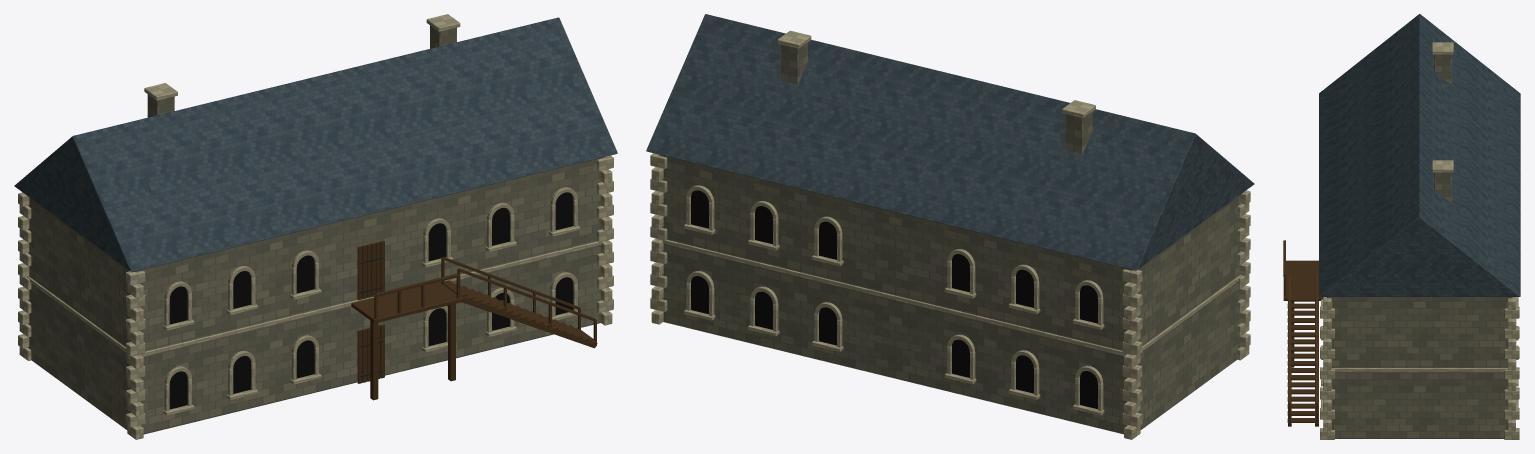
The model's file is hall-DfnBqStf.glb.
3 views of the same model, side by side, from view 1: azimuth 30°, elevation 25°; view 2: azimuth 150°, elevation 25°; view 3: azimuth 270°, elevation 25° (orthographic). The views are drawn at different scales.
Parts seen in each view (by area): view 1: hall__SW_slate, hall__SW_stone, hall__SW_limestone, hall__SW_wood, hall__SW_dark; view 2: hall__SW_stone, hall__SW_slate, hall__SW_limestone, hall__SW_dark; view 3: hall__SW_slate, hall__SW_stone, hall__SW_limestone, hall__SW_wood.
Part boxes in pixels (x1=…): hall__SW_slate: x1=14, y1=17, x2=617, y2=271; hall__SW_stone: x1=28, y1=25, x2=604, y2=434; hall__SW_limestone: x1=18, y1=14, x2=613, y2=439; hall__SW_wood: x1=351, y1=240, x2=597, y2=400; hall__SW_dark: x1=169, y1=192, x2=573, y2=409; hall__SW_stone: x1=659, y1=42, x2=1240, y2=434; hall__SW_slate: x1=646, y1=14, x2=1254, y2=270; hall__SW_limestone: x1=650, y1=30, x2=1250, y2=439; hall__SW_dark: x1=691, y1=190, x2=1097, y2=409; hall__SW_slate: x1=1319, y1=14, x2=1520, y2=296; hall__SW_stone: x1=1326, y1=54, x2=1512, y2=438; hall__SW_limestone: x1=1320, y1=42, x2=1519, y2=439; hall__SW_wood: x1=1283, y1=240, x2=1322, y2=426.
Bounding box in the file's own units: 20.7 × 11.22 × 10.19.
6 materials, 6 textured.
